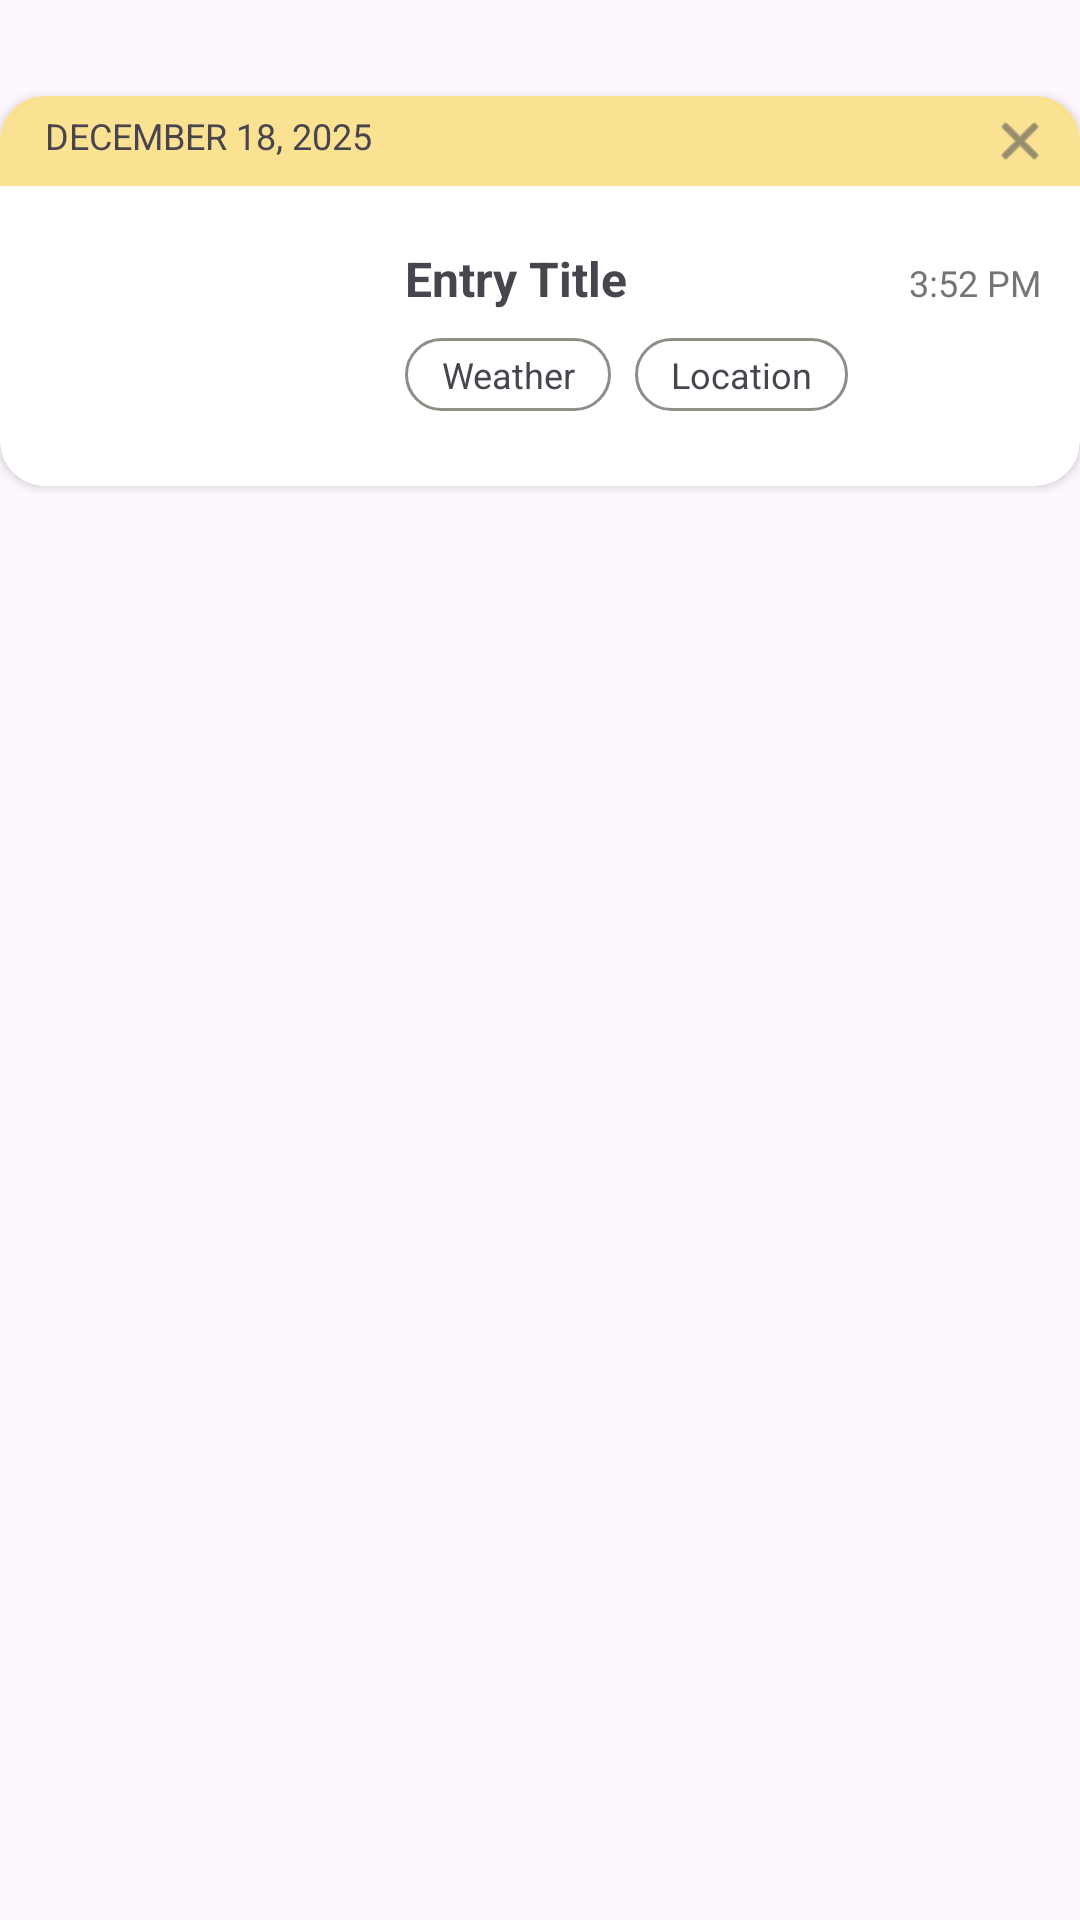

Where to tap for icons on this 1080x1920 app screen, as (x=x, y=y):
close clear cancel: (x=1020, y=141)
